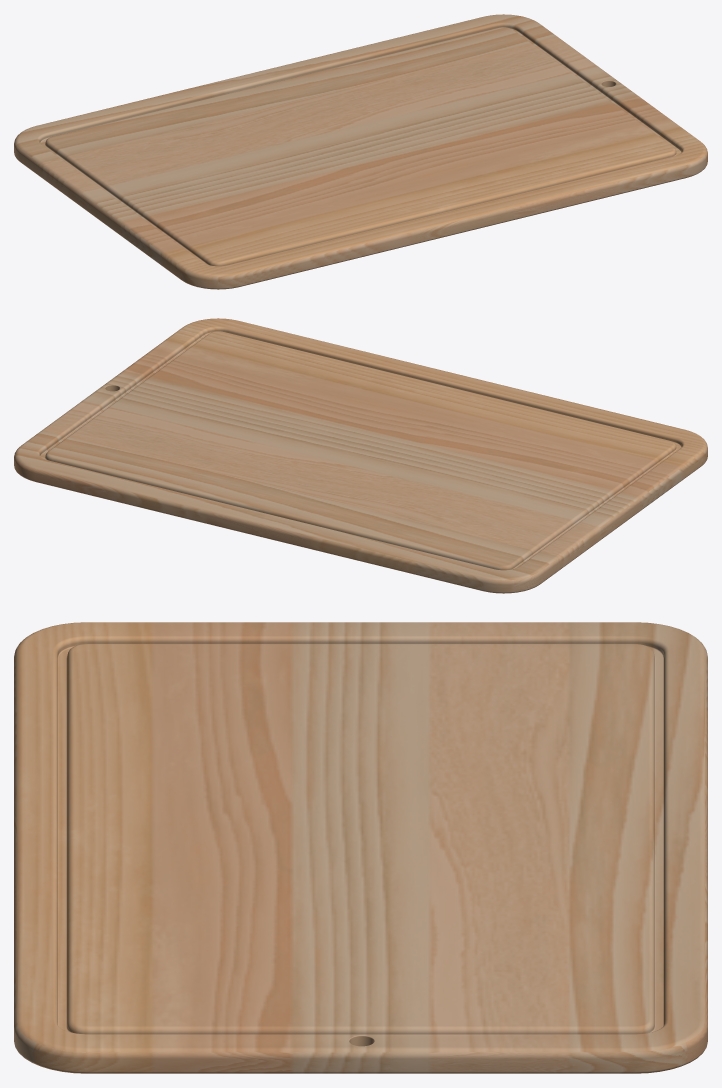
Rendered from obj_cutting_board_06c94c.glb.
3 views of the same model, one above another, from view 1: azimuth 30°, elevation 25°; view 2: azimuth 150°, elevation 25°; view 3: azimuth 270°, elevation 25° (orthographic). The views are drawn at different scales.
Parts seen in each view (by area): view 1: obj_cutting_board_06c94c; view 2: obj_cutting_board_06c94c; view 3: obj_cutting_board_06c94c.
Boxes of the visible parts, x1,y1,x2,y2 form: obj_cutting_board_06c94c: (14,14,707,289); obj_cutting_board_06c94c: (14,318,707,593); obj_cutting_board_06c94c: (14,622,707,1073).
Bounding box in the file's own units: 0.4 × 0.0103 × 0.2717.
1 material, 1 textured.
